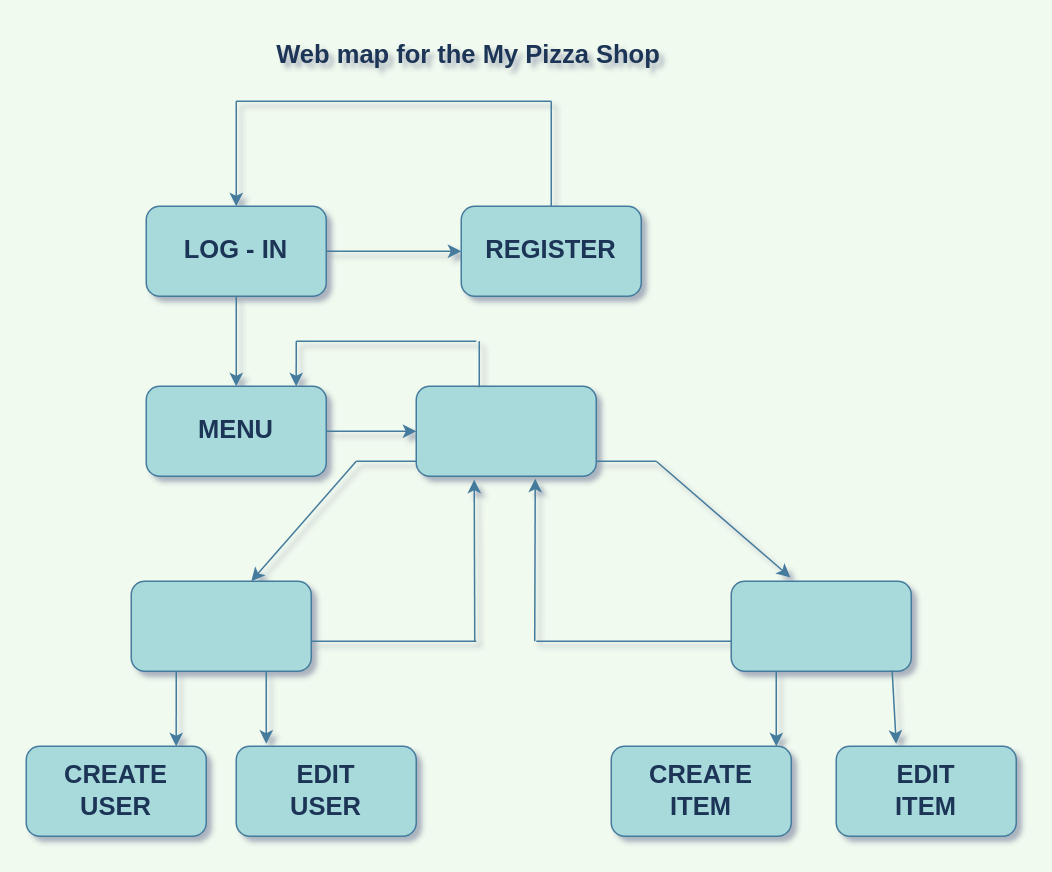
The diagram is 1052 pixels wide and 872 high, and some of its shapes have lost their labels. Each missing label, with the centre of its shape:
"ADMIN" belongs at [505,430].
"ITEM MANAGMENT" belongs at [820,625].
"USER MANAGMENT" belongs at [220,625].
